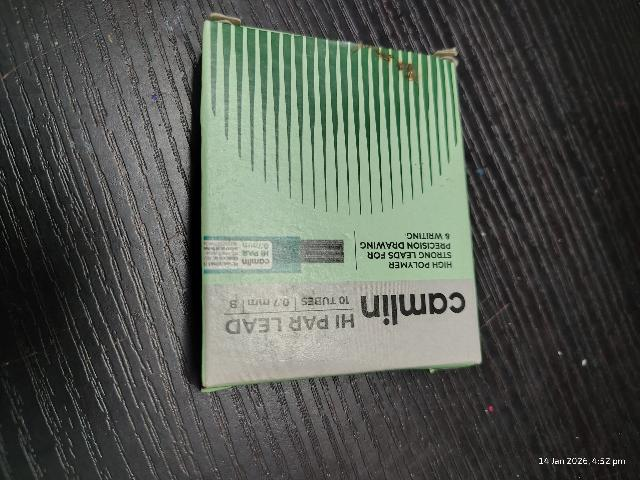camlin lids: (205, 20, 472, 376)
